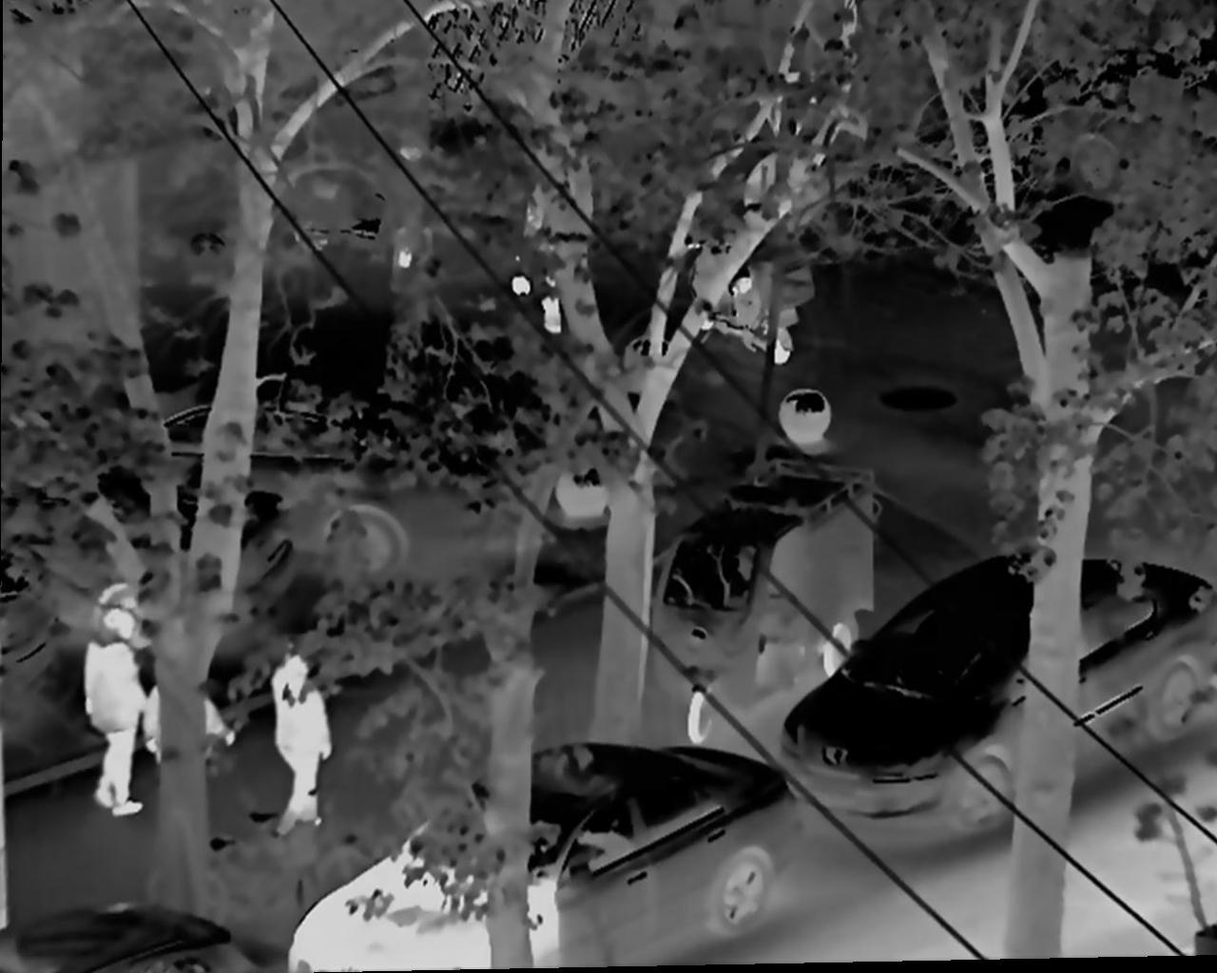person: (253, 639, 342, 829), (76, 601, 147, 817), (143, 658, 241, 807)
